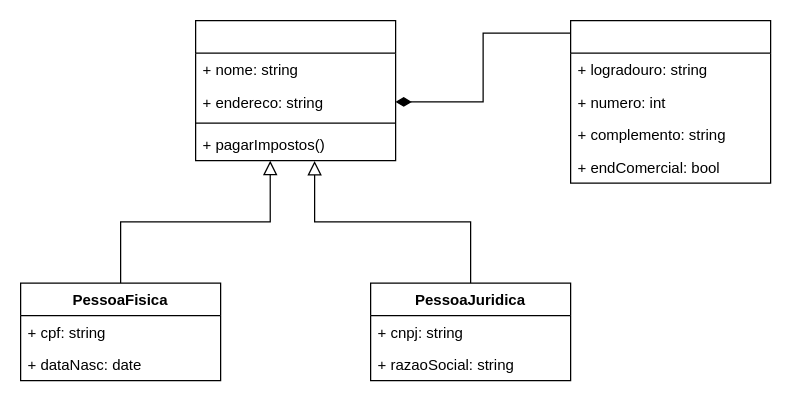
Some shapes in this 791 by 401 pixel diagram are drawn without their labels. The box of each missing label's shape, as (x1, y1, x2, y2) in pixels:
Endereco: (569, 19, 771, 183)
Pessoa: (194, 19, 396, 161)
